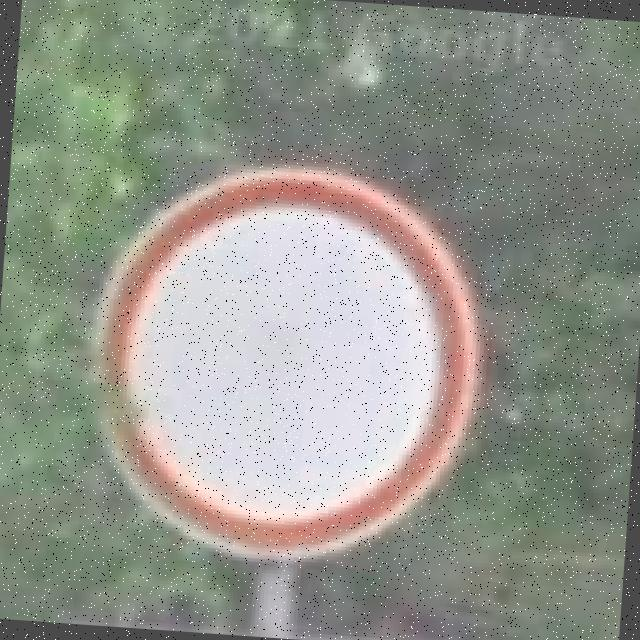Zakaz ruchu w obu kierunkach: (69, 152, 495, 572)
